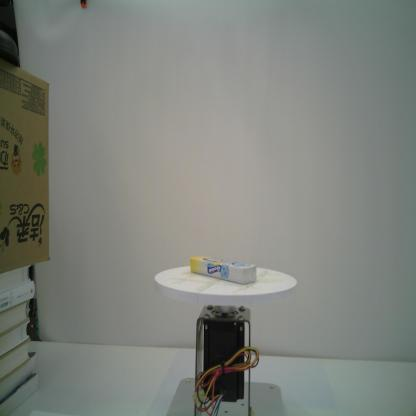Candy: (190, 254, 257, 285)
